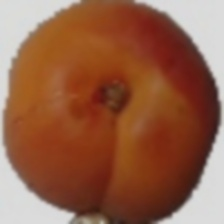apricot: (25, 27, 224, 169)
